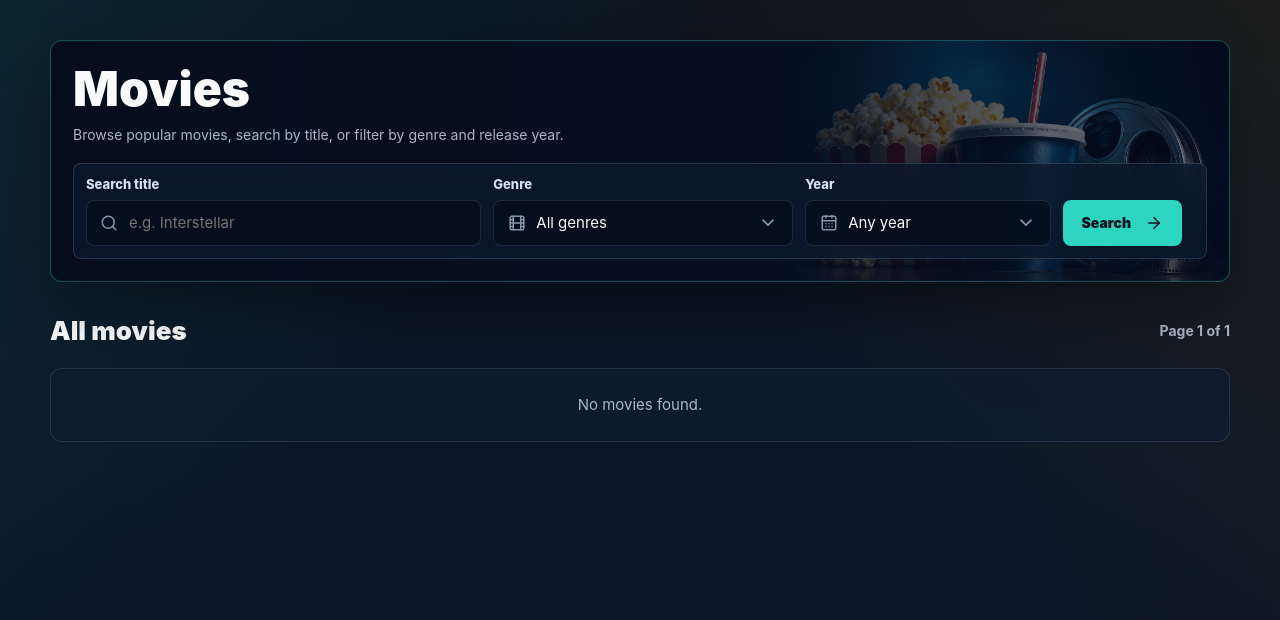
Test: MoviesPage › supports keyboard navigation inside filter dropdowns
The width and height of the screenshot is (1280, 620).
Click the button "All genres".
click(572, 223)  # box [493,200,793,246]
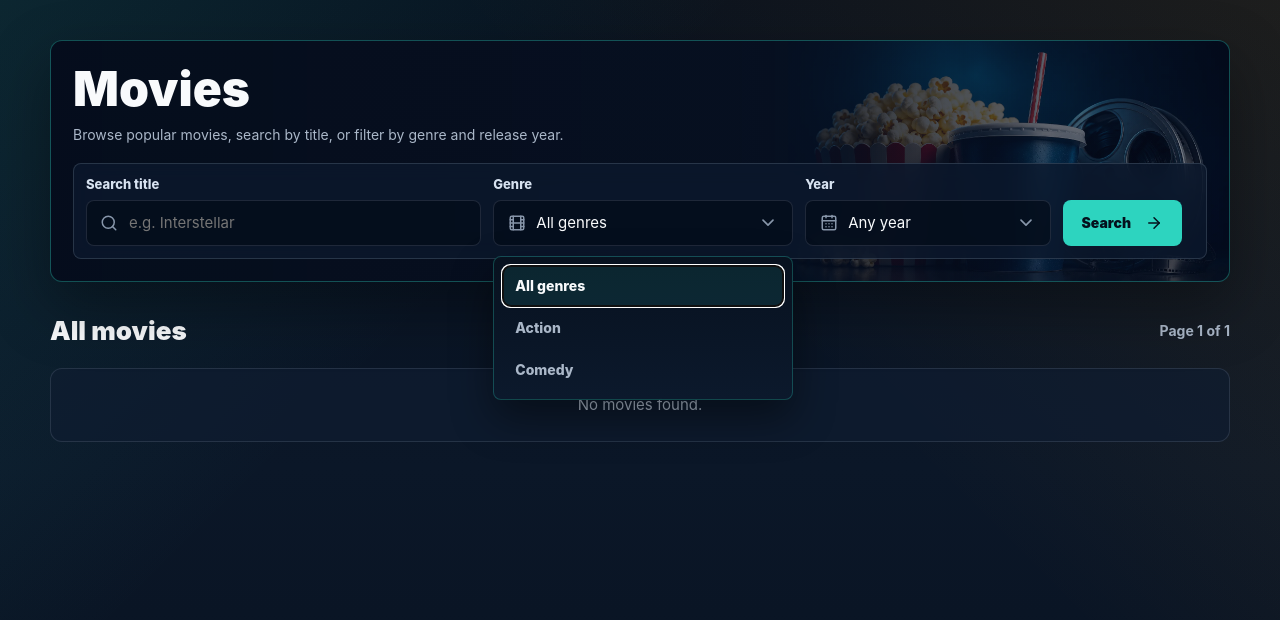
Press Arrowdown
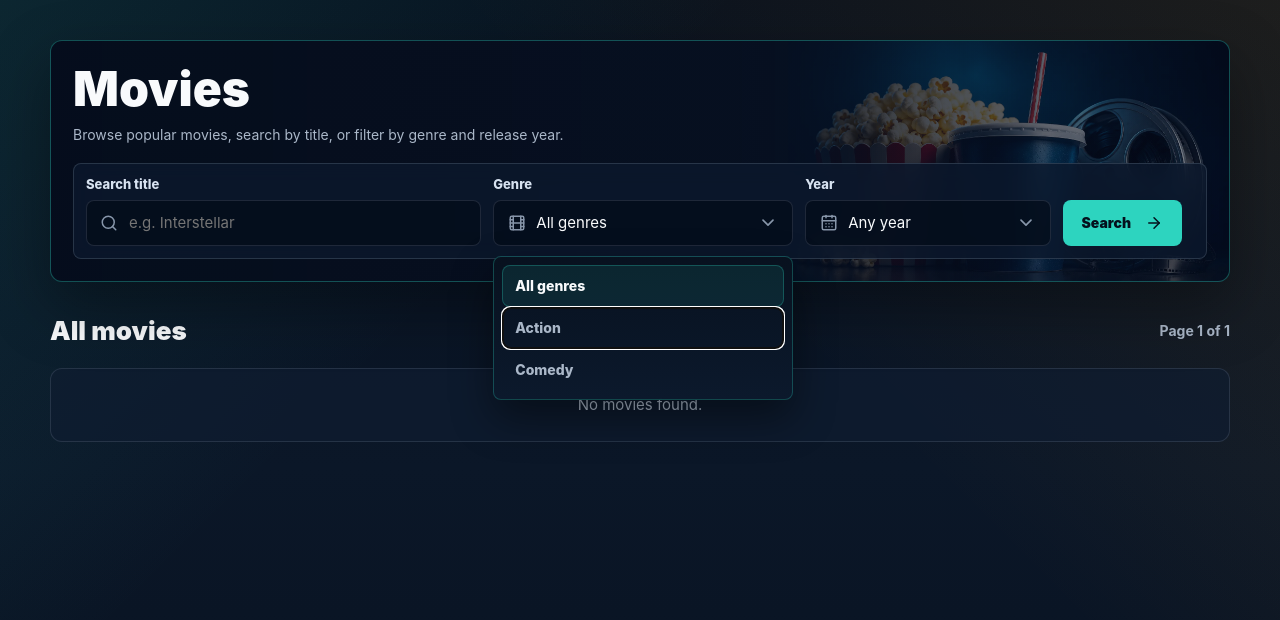
Press End
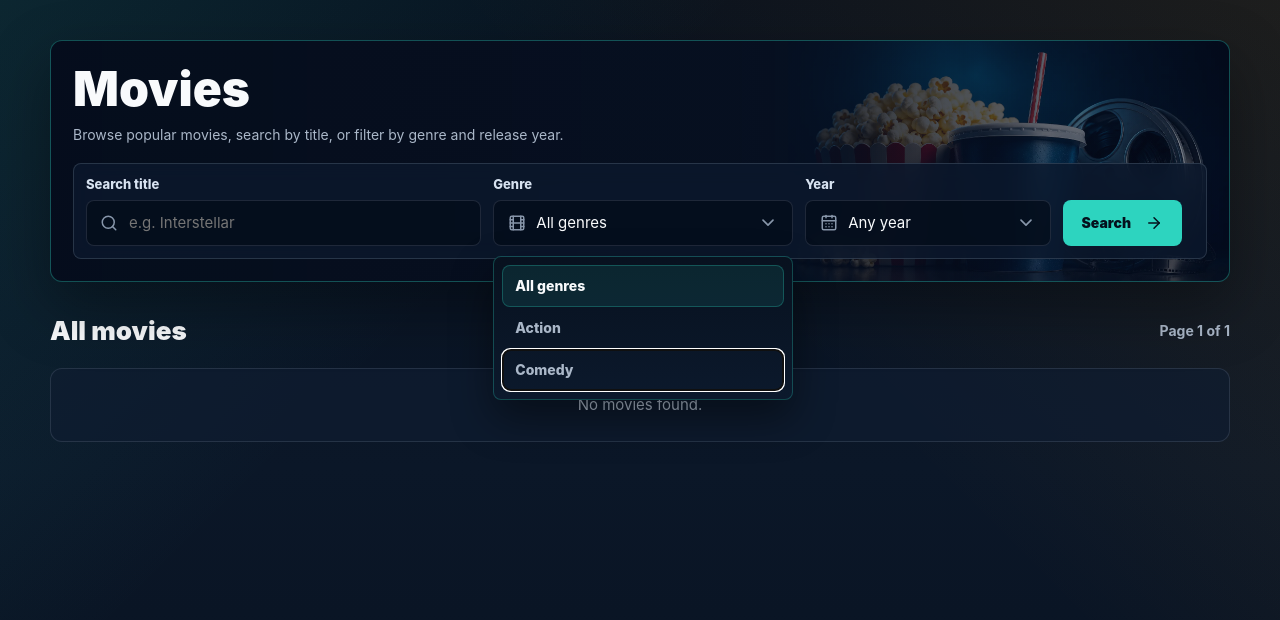
Press Escape
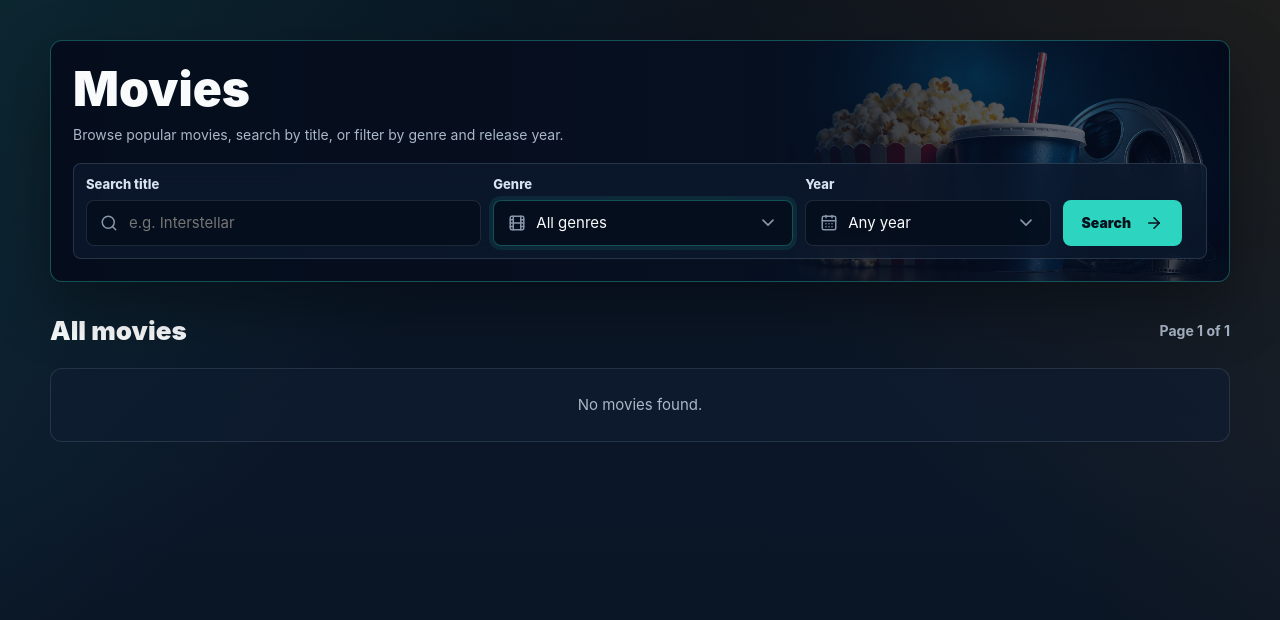
Check: the menu is gone
